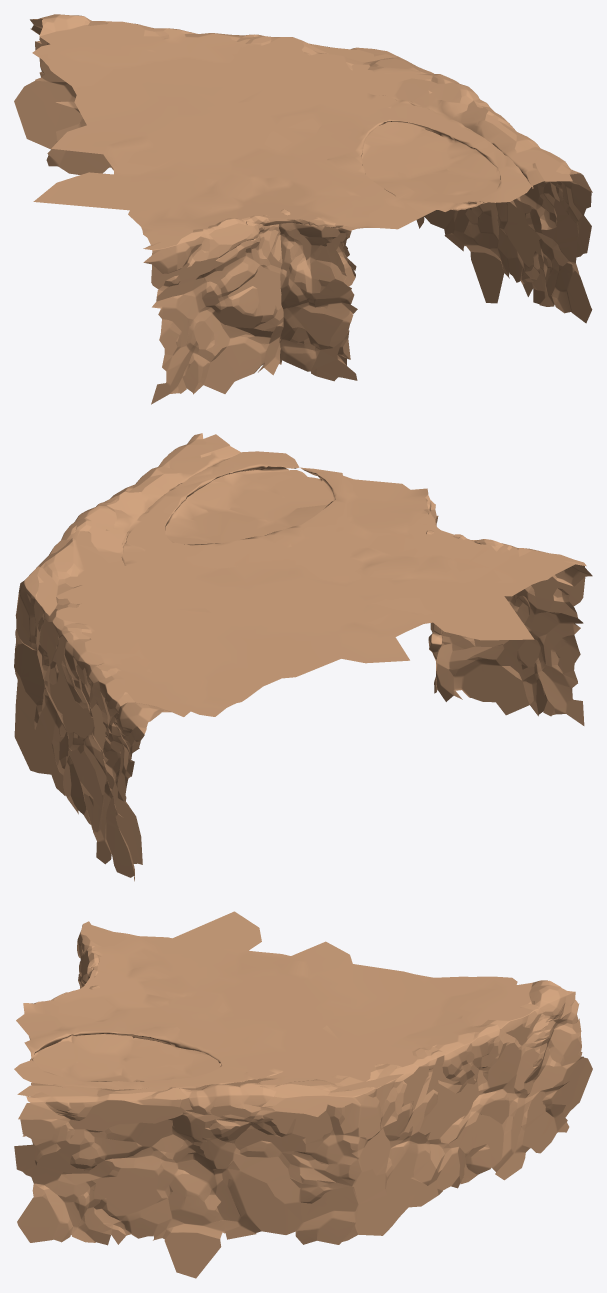
Rendered from SandstoneBig_Mesh_2LODs.fbx.
The picture shows the model from 3 angles, top to bottom: view 1: azimuth 30°, elevation 25°; view 2: azimuth 150°, elevation 25°; view 3: azimuth 270°, elevation 25°; orthographic projection. The views are drawn at different scales.
Visible parts, largest first — view 1: Mesh_2_LOD0; view 2: Mesh_2_LOD0; view 3: Mesh_2_LOD0.
Boxes of the visible parts, x1,y1,x2,y2 form: Mesh_2_LOD0: (14,14,592,404); Mesh_2_LOD0: (14,433,592,881); Mesh_2_LOD0: (14,911,592,1278).
Size of what is drawn, in the model's own units: 10611 by 4752 by 13165.
